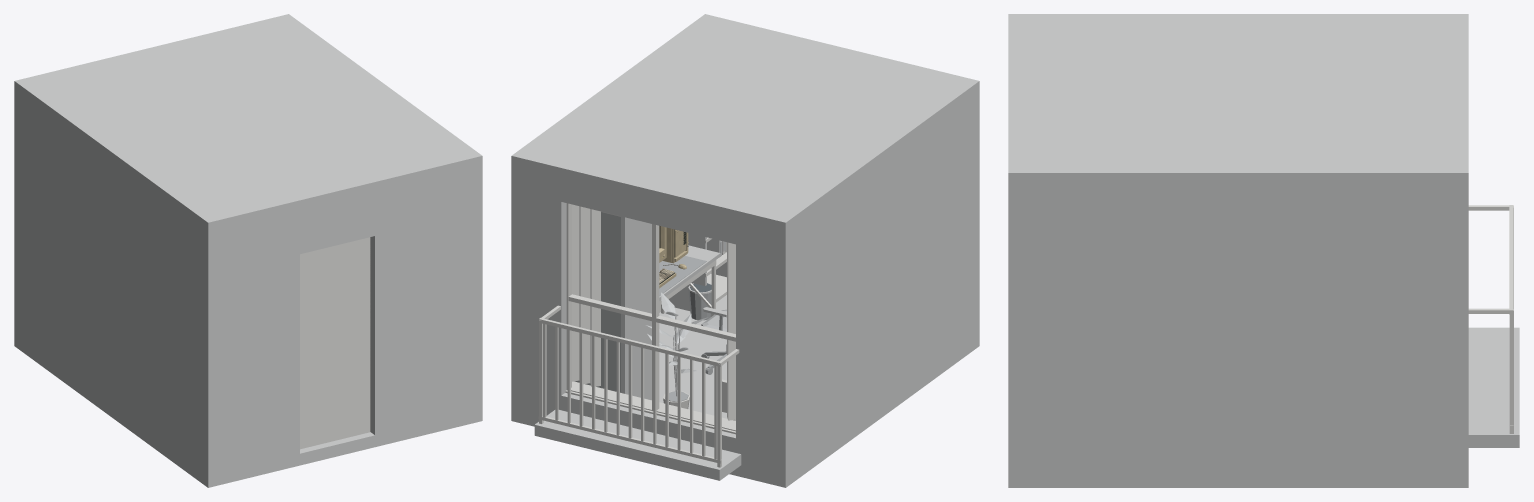
Rendered from retro-room.glb.
3 views of the same model, side by side, from view 1: azimuth 30°, elevation 25°; view 2: azimuth 150°, elevation 25°; view 3: azimuth 270°, elevation 25° (orthographic). The views are drawn at different scales.
Visible parts, largest first — view 1: RoomBatch_Whitebox__structural_clay, RoomBatch_Whitebox__light_clay; view 2: RoomBatch_Whitebox__structural_clay, RoomBatch_Whitebox__light_clay, RoomBatch_Whitebox__mid_gray, RoomBatch_Whitebox__fabric_clay, RoomBatch_Retro__aged_ivory_ABS; view 3: RoomBatch_Whitebox__structural_clay, RoomBatch_Whitebox__light_clay.
Boxes of the visible parts, x1,y1,x2,y2 form: RoomBatch_Whitebox__structural_clay: (14,14,482,487); RoomBatch_Whitebox__light_clay: (300,237,370,449); RoomBatch_Whitebox__structural_clay: (511,14,979,487); RoomBatch_Whitebox__light_clay: (538,203,739,467); RoomBatch_Whitebox__mid_gray: (574,212,726,401); RoomBatch_Whitebox__fabric_clay: (646,241,726,373); RoomBatch_Retro__aged_ivory_ABS: (659,226,688,288); RoomBatch_Whitebox__structural_clay: (1008,14,1519,487); RoomBatch_Whitebox__light_clay: (1468,205,1513,433).
Bounding box in the file's own units: 3.14 × 2.9 × 4.26.
12 materials, 2 textured.
